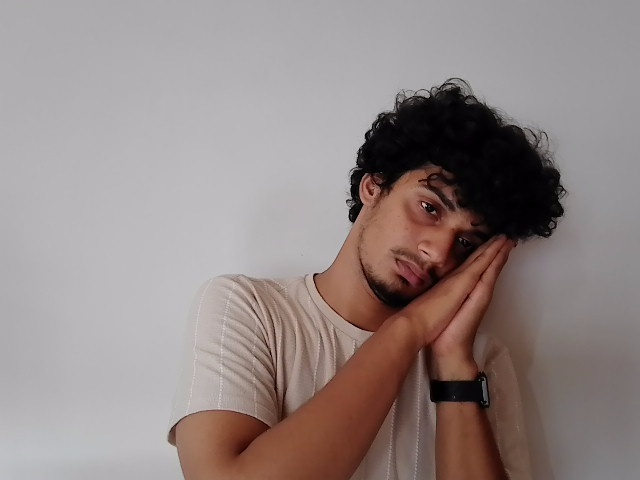sleep: (386, 231, 521, 348)
